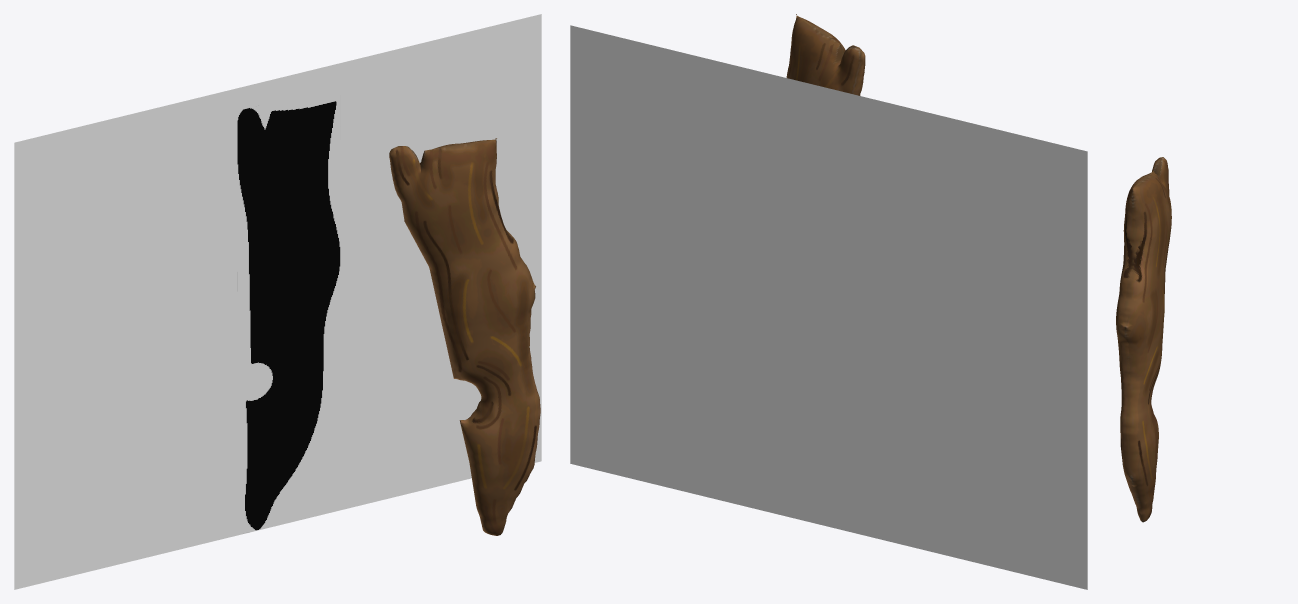
File: driftwood.fbx
3 views of the same model, side by side, from view 1: azimuth 30°, elevation 25°; view 2: azimuth 150°, elevation 25°; view 3: azimuth 270°, elevation 25° (orthographic). The views are drawn at different scales.
Parts seen in each view (by area): view 1: root (×3); view 2: root (×2); view 3: root.
Part boxes in pixels (bbox=[...]): root (×3): bbox=[14, 14, 541, 589]; root (×2): bbox=[570, 14, 1087, 589]; root: bbox=[1116, 157, 1171, 522].
Size of the model in its own units: 0.696 by 0.564 by 0.2348.
Materials: 3 (3 with a texture image).
